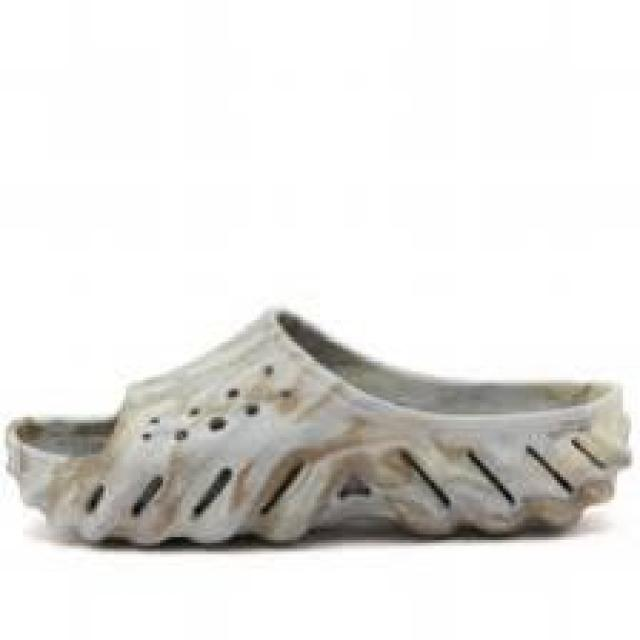shoe: (9, 310, 634, 545)
